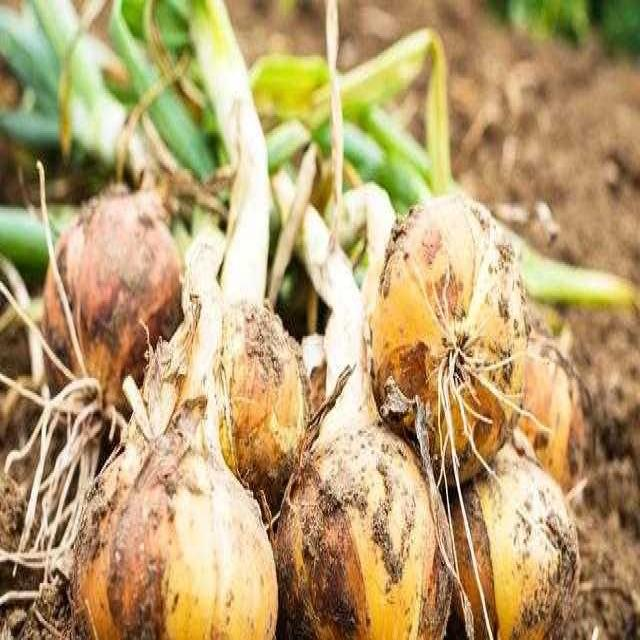onion: (362, 186, 530, 484), (270, 359, 440, 640), (69, 419, 280, 640), (44, 182, 184, 399), (442, 447, 580, 632), (177, 296, 309, 486), (505, 328, 587, 492)
